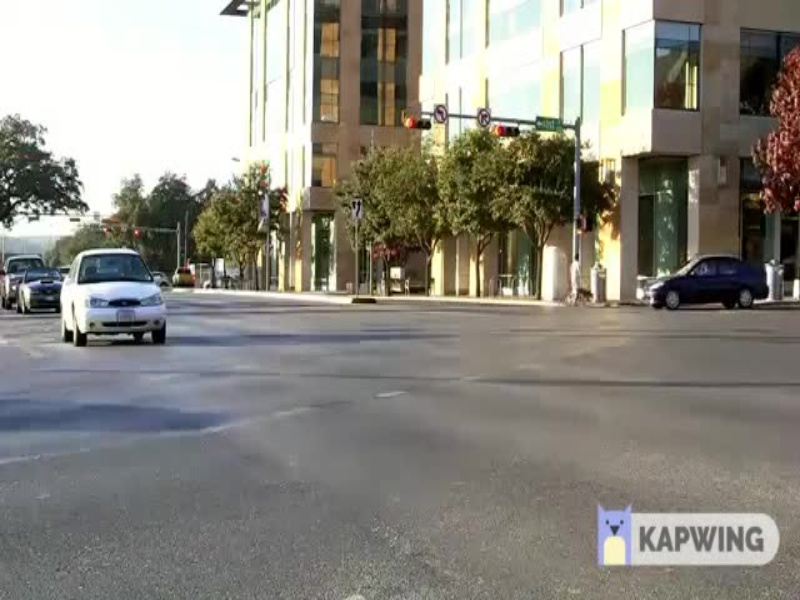car: (56, 250, 175, 353), (635, 248, 774, 321)
